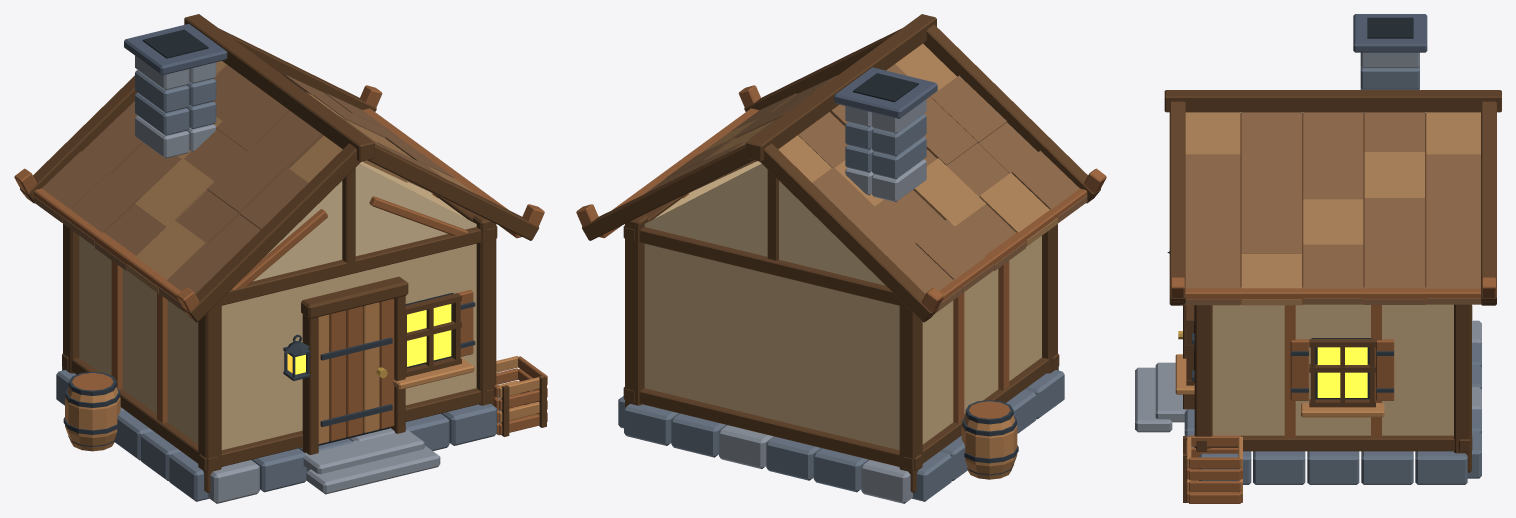
The model's file is HouseBrown.glb.
3 renders of one model, left to right at view 1: azimuth 30°, elevation 25°; view 2: azimuth 150°, elevation 25°; view 3: azimuth 270°, elevation 25°, orthographic. The views are drawn at different scales.
Visible parts, largest first — view 1: Solid plaster shell, Plaster gable, Bargeboard, Ridge cap, Facade horizontal timber.002, Massive corner timber, Massive corner timber.002, Bargeboard.002, Facade horizontal timber, Doorstep.001, Overlapping roof tile.006, Overlapping roof tile.012 (+55 smaller); view 2: Solid plaster shell, Plaster gable.001, Bargeboard.001, Ridge cap, Facade horizontal timber.001, Facade horizontal timber.003, Bargeboard, Massive corner timber.001, Massive corner timber.003, Bargeboard.003, Overlapping roof tile.012, Faceted barrel (+42 smaller); view 3: Solid plaster shell, Ridge cap, Side horizontal timber.001, Eave fascia.001, Overlapping roof tile.031, Overlapping roof tile.033, Bargeboard.002, Overlapping roof tile.037, Bargeboard.003, Overlapping roof tile.027, Overlapping roof tile.026, Overlapping roof tile.035 (+45 smaller).
Part boxes in pixels (x1,y1,x2,y2): Solid plaster shell: (79, 161, 476, 449); Plaster gable: (253, 163, 476, 281); Bargeboard: (182, 143, 360, 322); Ridge cap: (184, 14, 374, 161); Facade horizontal timber.002: (221, 226, 497, 305); Massive corner timber: (198, 299, 221, 492); Massive corner timber.002: (473, 215, 496, 405); Bargeboard.002: (367, 144, 538, 240); Facade horizontal timber: (199, 388, 481, 470); Doorstep.001: (306, 445, 440, 494); Overlapping roof tile.006: (207, 143, 286, 214); Overlapping roof tile.012: (135, 158, 213, 226); Solid plaster shell: (644, 161, 1041, 450); Plaster gable.001: (644, 163, 885, 285); Bargeboard.001: (760, 143, 938, 322); Ridge cap: (746, 14, 936, 161); Facade horizontal timber.001: (623, 387, 921, 470); Facade horizontal timber.003: (623, 225, 899, 305); Bargeboard: (923, 24, 1100, 203); Massive corner timber.001: (899, 300, 922, 492); Massive corner timber.003: (625, 215, 647, 407); Bargeboard.003: (582, 144, 753, 240); Overlapping roof tile.012: (913, 158, 985, 226); Faceted barrel: (961, 415, 1017, 479); Solid plaster shell: (1212, 304, 1453, 435); Ridge cap: (1164, 90, 1501, 112); Side horizontal timber.001: (1194, 435, 1472, 451); Eave fascia.001: (1185, 287, 1480, 304); Overlapping roof tile.031: (1241, 198, 1301, 253); Overlapping roof tile.033: (1364, 198, 1424, 253); Bargeboard.002: (1169, 101, 1185, 305); Overlapping roof tile.037: (1303, 244, 1363, 304); Bargeboard.003: (1481, 101, 1496, 305); Overlapping roof tile.027: (1303, 152, 1363, 199); Overlapping roof tile.026: (1241, 152, 1301, 198); Overlapping roof tile.035: (1180, 245, 1240, 305).
Size of the model in its own units: 11.51 by 10.5 by 9.9.
